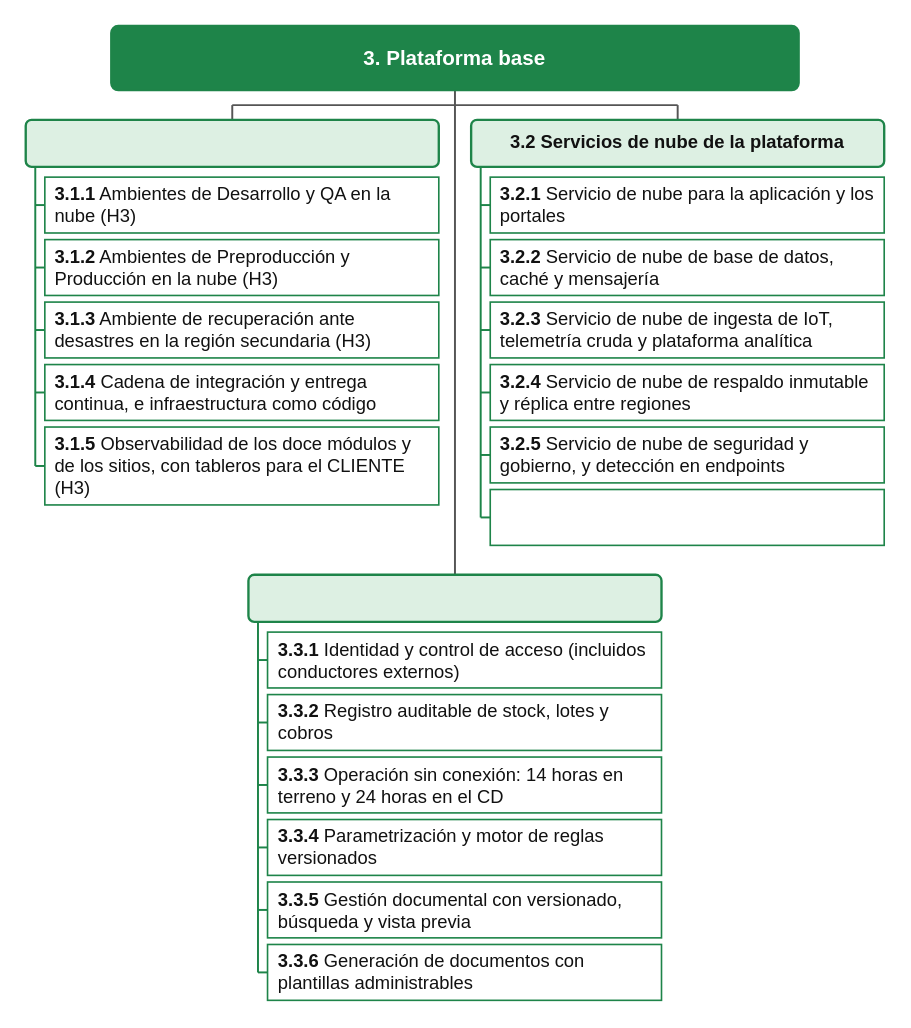
Image size: 911x1028. Some labels were removed from this diagram. The centre of each missing label's shape, as x and y in pixels:
"3.1 Ambientes y entrega continua" goes at point 231,142.
"3.2.6 Servicio de gestión de dispositivos móviles" goes at point 686,517.
"3.3 Servicios comunes" goes at point 454,597.
